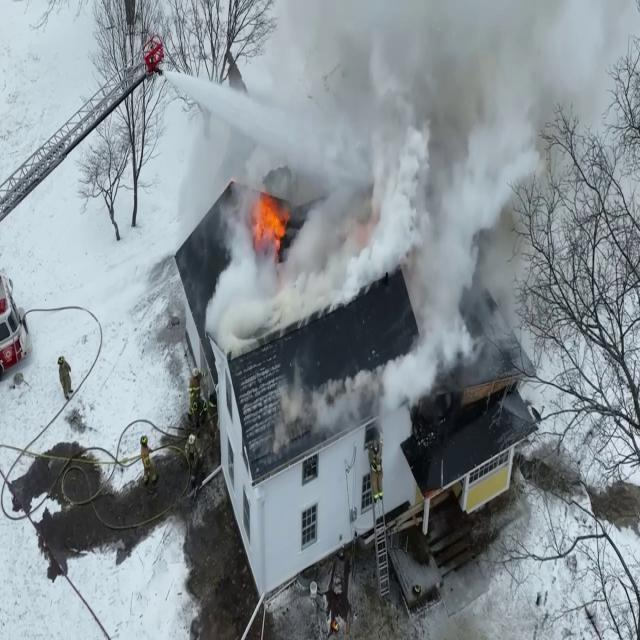Fire: (244, 186, 294, 260)
Smoke: (198, 0, 638, 338)
